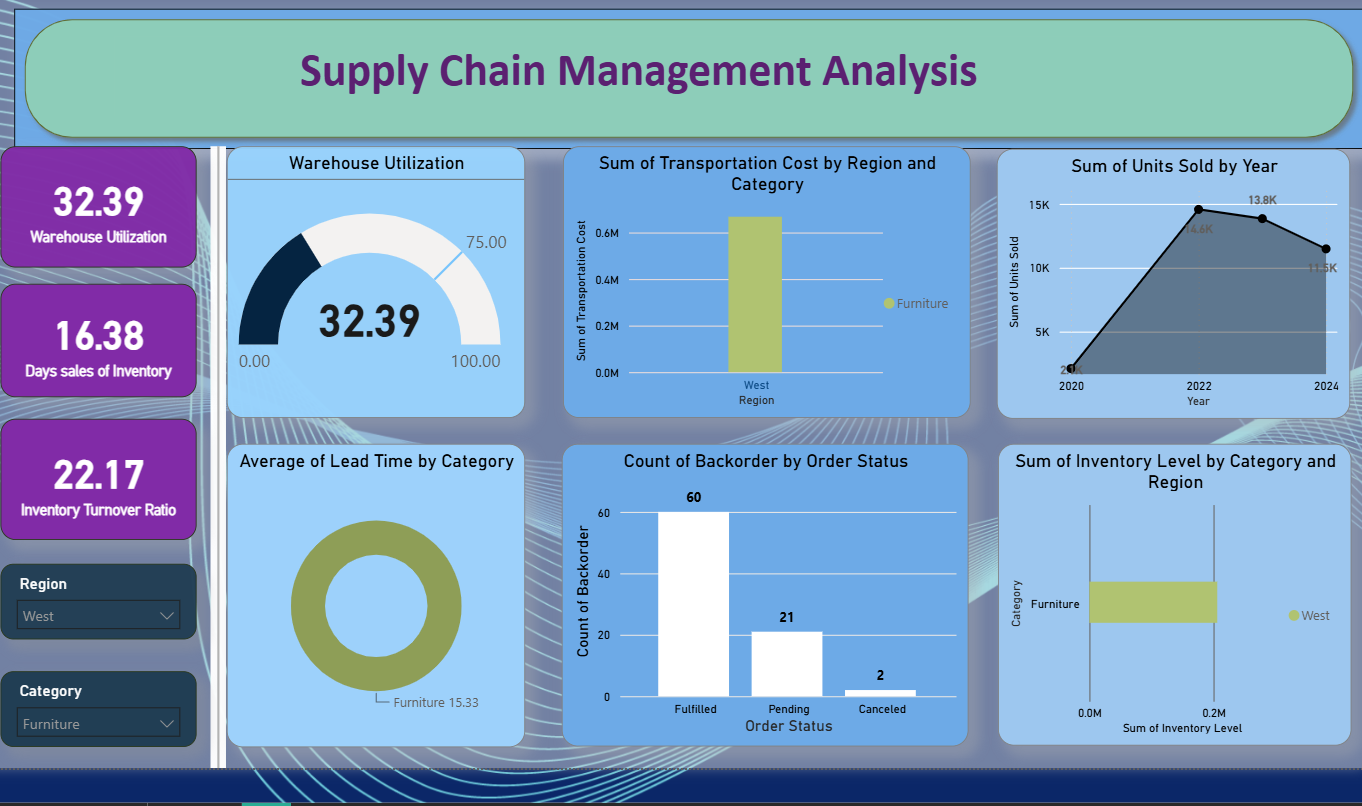

Layout of this report page (visuals, bound fields, positions):
{"tool":"powerbi","page":{"name":"Page 1","canvas":[1280,720],"ordinal":0},"visuals":[{"type":"shape","box":[24.4,12.8,1255.8,130.2],"z":0},{"type":"textbox","box":[117.4,38.4,966.3,74.4],"z":1000},{"type":"shape","box":[207.2,141.1,14.7,578.9],"z":3000},{"type":"card","fields":{"Values":["Inventory and Supply Chain Dataset.Warehouse Utilization"]},"box":[11.8,141.1,182.2,113.1],"z":4000},{"type":"card","fields":{"Values":["Inventory and Supply Chain Dataset.Days sales of Inventory"]},"box":[11.8,268.9,182.2,105.8],"z":5000},{"type":"card","fields":{"Values":["Inventory and Supply Chain Dataset.Inventory Turnover Ratio"]},"box":[11.8,393.8,182.2,113.1],"z":6000},{"type":"slicer","fields":{"Values":["Inventory and Supply Chain Dataset.Region"]},"box":[11.8,529,182.2,70.5],"z":7000},{"type":"slicer","fields":{"Values":["Inventory and Supply Chain Dataset.Category"]},"box":[11.8,628.9,182.2,70.5],"z":8000},{"type":"gauge","fields":{"Y":["Inventory and Supply Chain Dataset.Warehouse Utilization"]},"box":[221.9,141.1,277.7,252.7],"z":9000},{"type":"clusteredColumnChart","fields":{"Y":["Sum(Inventory and Supply Chain Dataset.Transportation Cost)"],"Category":["Inventory and Supply Chain Dataset.Region"],"Series":["Inventory and Supply Chain Dataset.Category"]},"box":[534.9,141.1,379.1,252.7],"z":10000},{"type":"lineChart","fields":{"Y":["Sum(Inventory and Supply Chain Dataset.Units Sold)"],"Category":["Inventory and Supply Chain Dataset.Date.Variation.Date Hierarchy.Year"]},"box":[938.9,142.5,329.1,251.3],"z":11000},{"type":"donutChart","fields":{"Y":["Avg(Inventory and Supply Chain Dataset.Lead Time)"],"Category":["Inventory and Supply Chain Dataset.Category"]},"box":[221.9,417.3,277.7,282.1],"z":12000},{"type":"columnChart","fields":{"Y":["CountNonNull(Inventory and Supply Chain Dataset.Backorder)"],"Category":["Inventory and Supply Chain Dataset.Order Status"]},"box":[534.3,417.1,378.6,281.4],"z":13000},{"type":"clusteredBarChart","fields":{"Y":["Sum(Inventory and Supply Chain Dataset.Inventory Level)"],"Category":["Inventory and Supply Chain Dataset.Category"],"Series":["Inventory and Supply Chain Dataset.Region"]},"box":[939,417,329,281],"z":14000}]}

Visuals, with their boxes in screenshot pixels (x1, y1, x2, y2):
shape: box(5, 21, 1361, 163)
textbox: box(106, 49, 1158, 130)
shape: box(204, 161, 220, 790)
card - Inventory and Supply Chain Dataset.Warehouse Utilization: box(0, 161, 190, 284)
card - Inventory and Supply Chain Dataset.Days sales of Inventory: box(0, 300, 190, 415)
card - Inventory and Supply Chain Dataset.Inventory Turnover Ratio: box(0, 436, 190, 559)
slicer - Inventory and Supply Chain Dataset.Region: box(0, 583, 190, 659)
slicer - Inventory and Supply Chain Dataset.Category: box(0, 691, 190, 768)
gauge - Inventory and Supply Chain Dataset.Warehouse Utilization: box(220, 161, 522, 436)
clusteredColumnChart - Sum(Inventory and Supply Chain Dataset.Transportation Cost) x Inventory and Supply Chain Dataset.Region: box(561, 161, 973, 436)
lineChart - Sum(Inventory and Supply Chain Dataset.Units Sold) x Inventory and Supply Chain Dataset.Date.Variation.Date Hierarchy.Year: box(1000, 162, 1358, 436)
donutChart - Avg(Inventory and Supply Chain Dataset.Lead Time) x Inventory and Supply Chain Dataset.Category: box(220, 461, 522, 768)
columnChart - CountNonNull(Inventory and Supply Chain Dataset.Backorder) x Inventory and Supply Chain Dataset.Order Status: box(560, 461, 972, 767)
clusteredBarChart - Sum(Inventory and Supply Chain Dataset.Inventory Level) x Inventory and Supply Chain Dataset.Category: box(1000, 461, 1358, 766)
